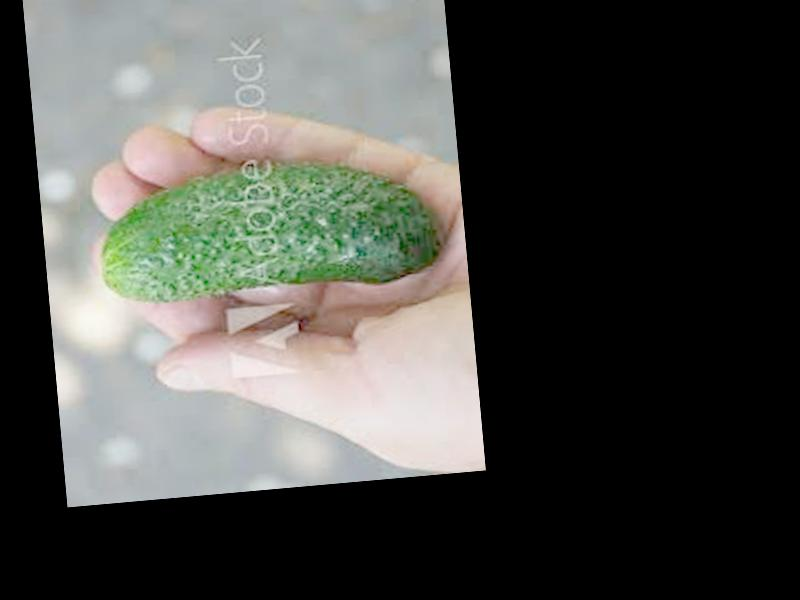Cucumber: (96, 147, 443, 307)
